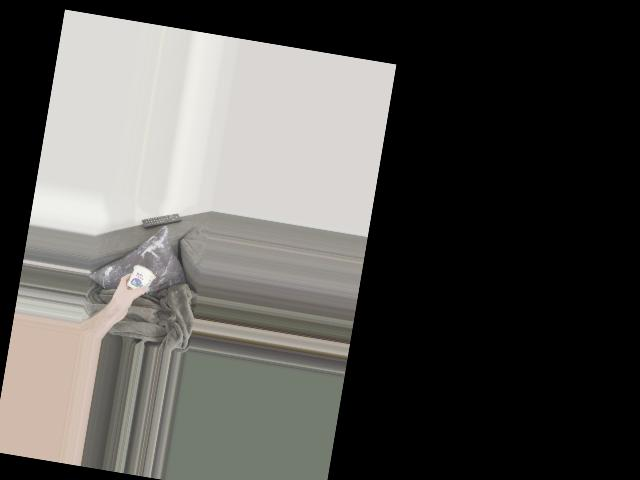cotage: (122, 260, 158, 299)
